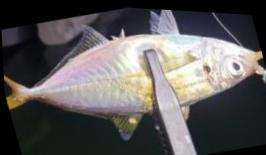fish: (3, 7, 263, 139)
